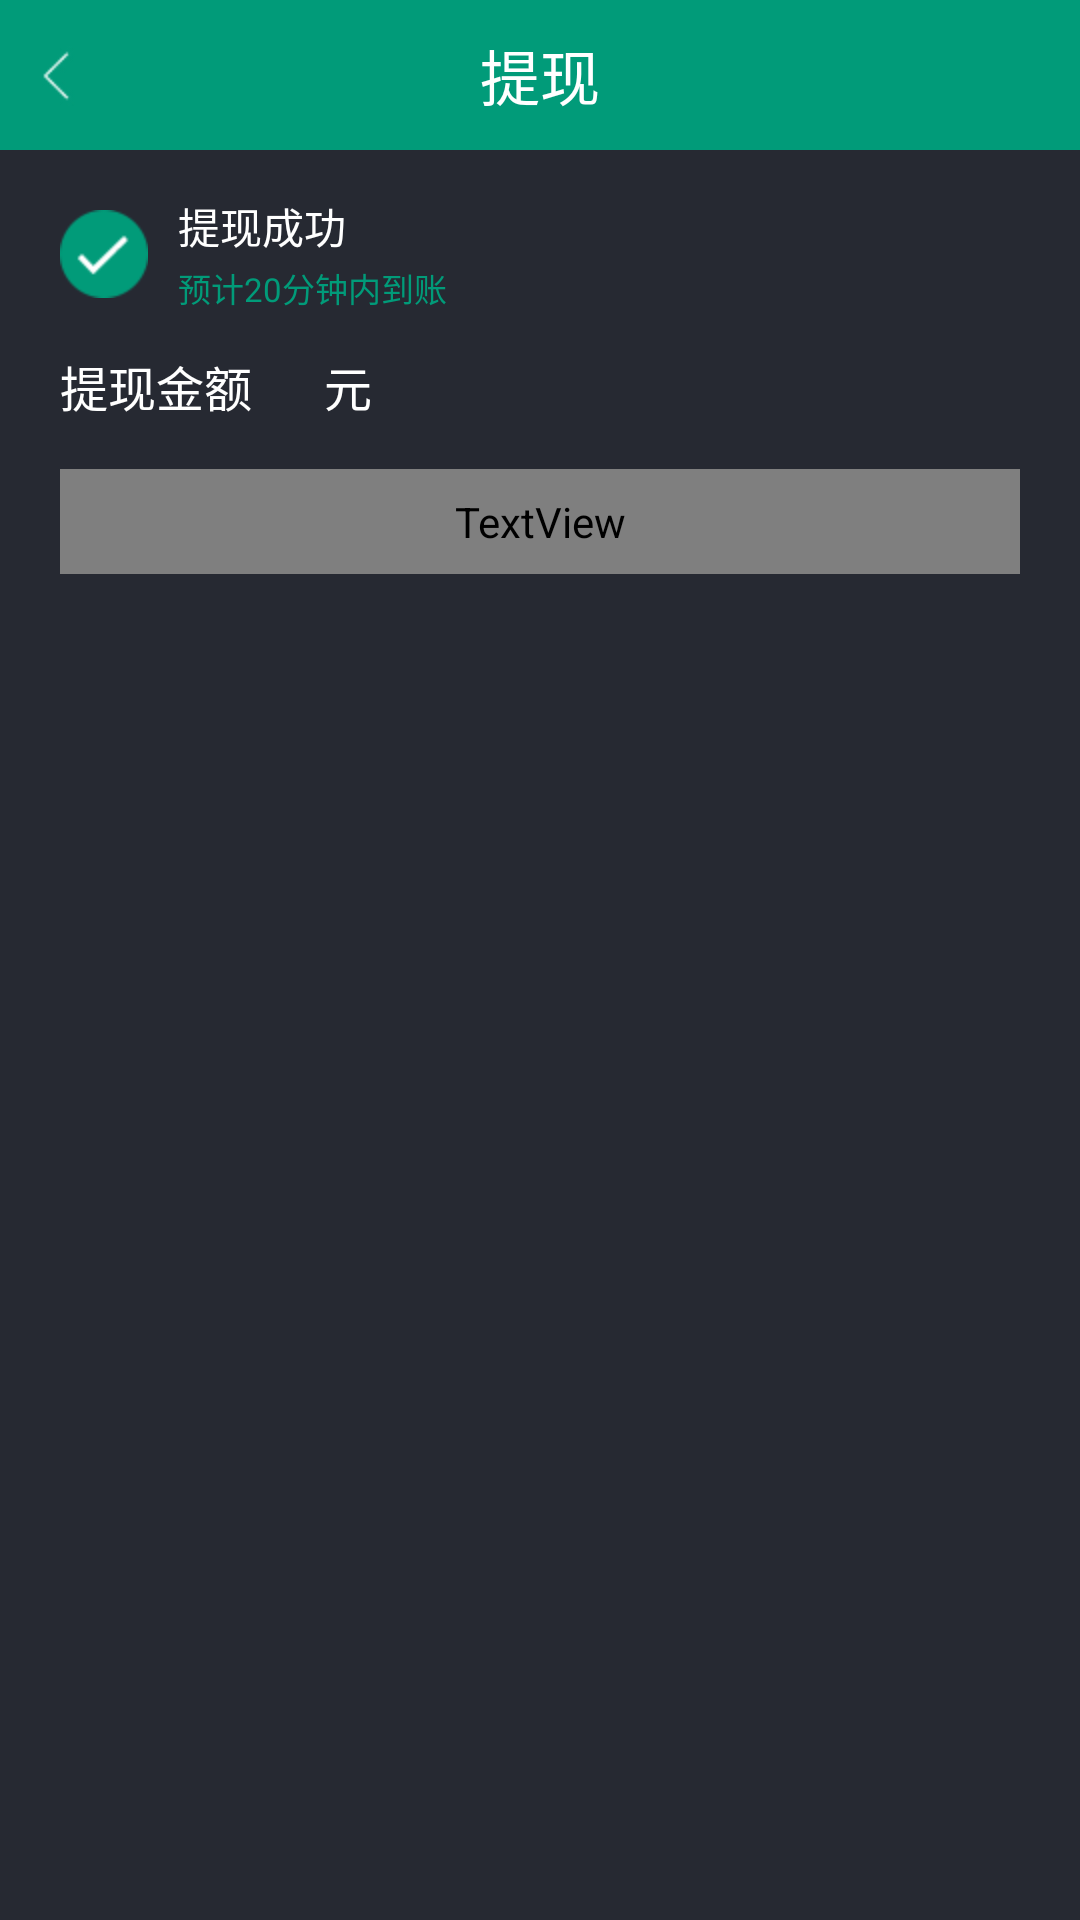

Icons on this 1080*1920 Android screen, each with the point to tap as (x=x, y=y):
back: (x=56, y=76)
success icom: (x=104, y=254)
